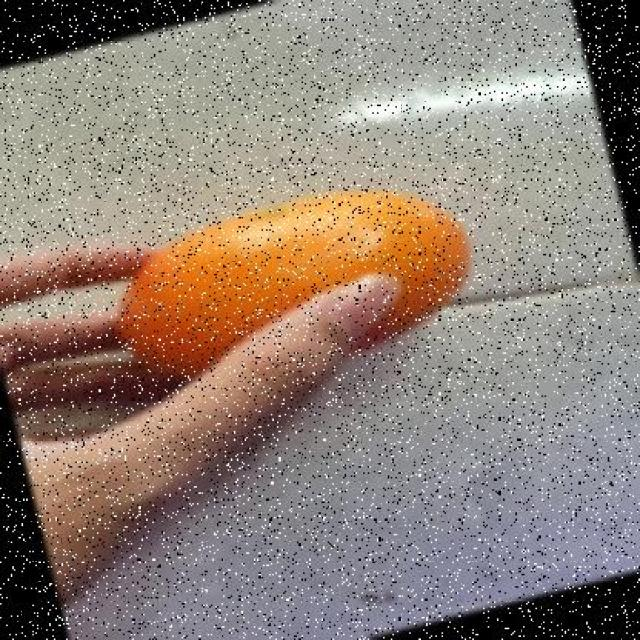Orange: (114, 186, 474, 385)
